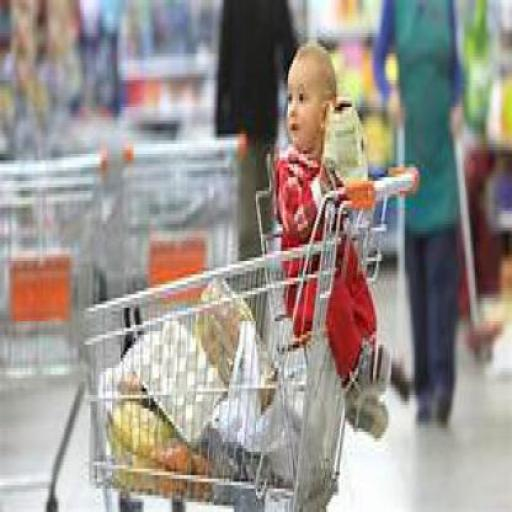shopping_cart: (83, 167, 423, 500), (0, 149, 108, 386), (124, 136, 247, 312)
